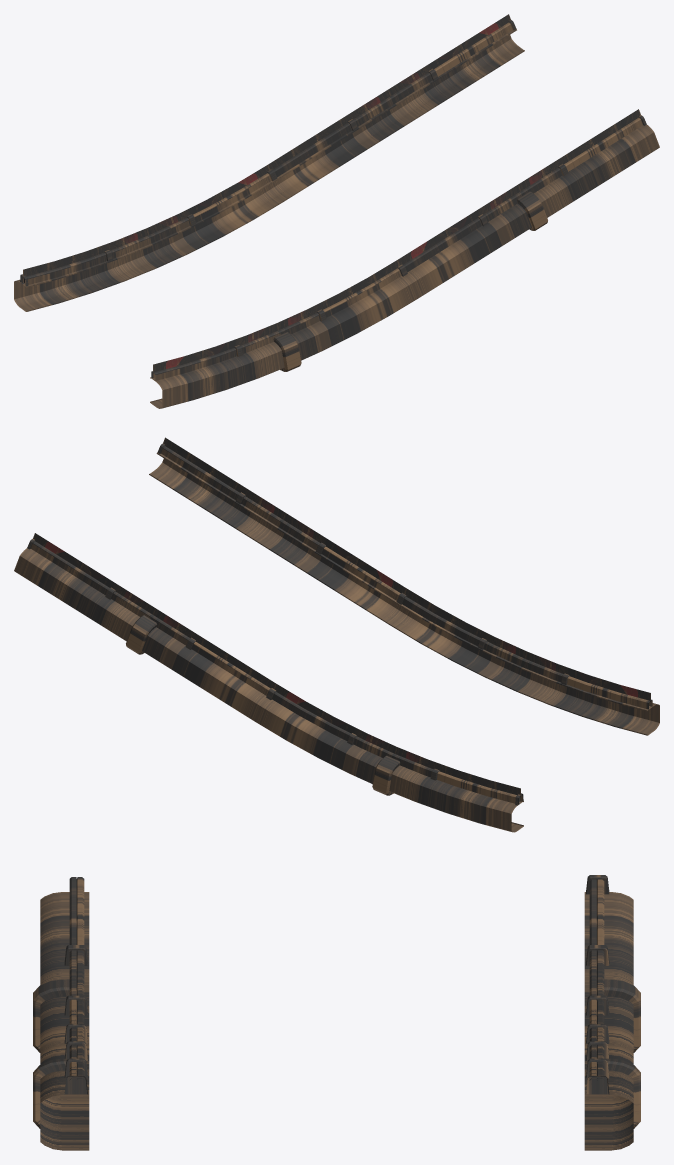
File: Mur_M_20.fbx
3 views of the same model, one above another, from view 1: azimuth 30°, elevation 25°; view 2: azimuth 150°, elevation 25°; view 3: azimuth 270°, elevation 25° (orthographic). The views are drawn at different scales.
Parts seen in each view (by area): view 1: polySurface218; view 2: polySurface218; view 3: polySurface218.
Boxes of the visible parts, bbox=[...] form: polySurface218: bbox=[14, 14, 659, 408]; polySurface218: bbox=[14, 437, 659, 832]; polySurface218: bbox=[33, 875, 640, 1150].
Size of the model in its own units: 29.14 by 9.91 by 15.38.
